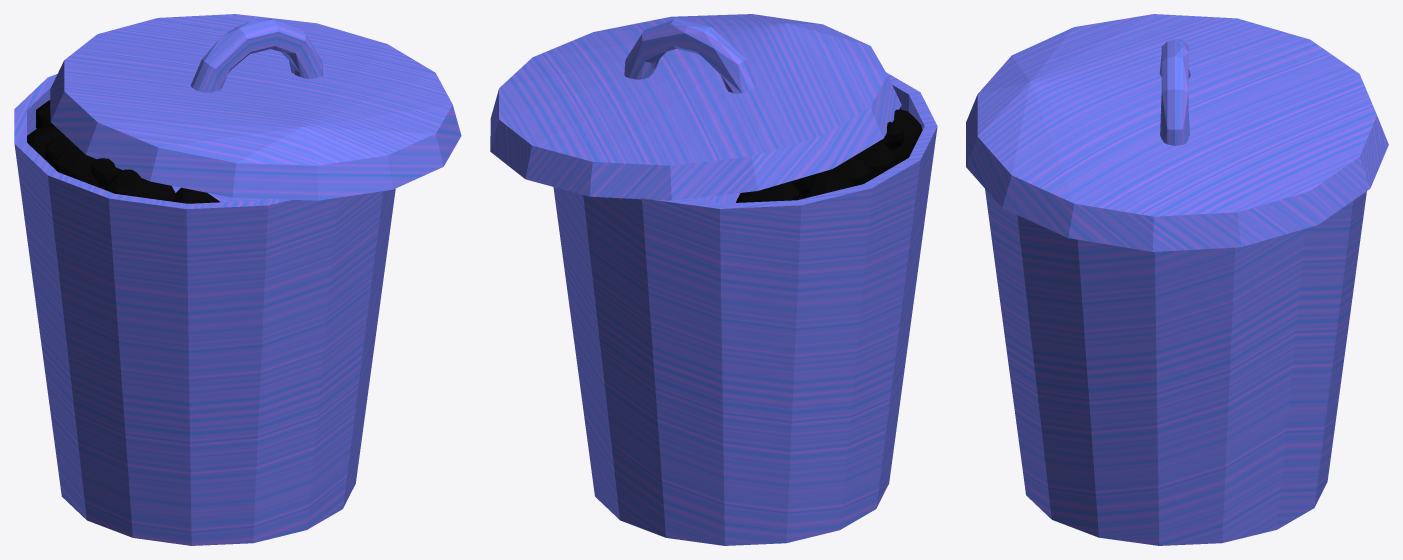
The model's file is Trashcan.glb.
3 views of the same model, side by side, from view 1: azimuth 30°, elevation 25°; view 2: azimuth 150°, elevation 25°; view 3: azimuth 270°, elevation 25° (orthographic). The views are drawn at different scales.
Parts seen in each view (by area): view 1: Icosphere; view 2: Icosphere; view 3: Icosphere.
Part boxes in pixels (x1=…): Icosphere: x1=14, y1=14, x2=461, y2=545; Icosphere: x1=490, y1=14, x2=937, y2=545; Icosphere: x1=966, y1=14, x2=1388, y2=545.
Bounding box in the file's own units: 2.32 × 2.51 × 2.09.
Materials: 2 (1 with a texture image).
